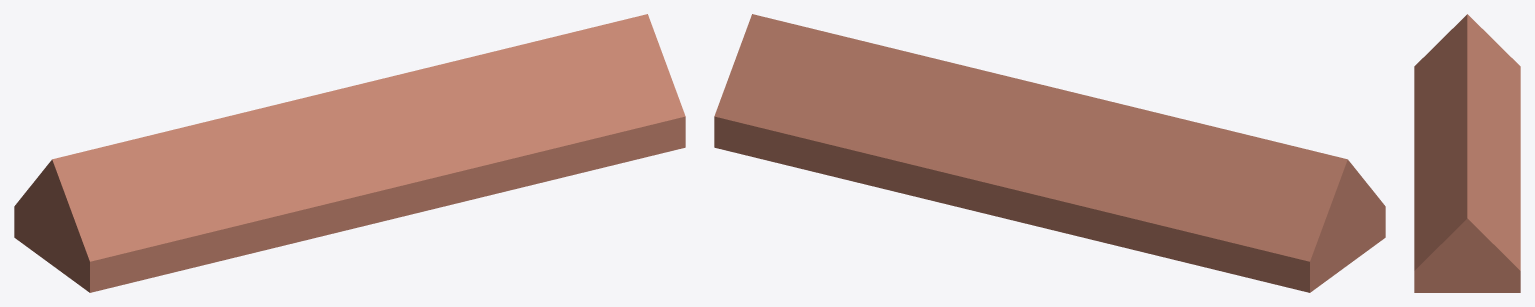
File: ridge_cap.glb
3 views of the same model, side by side, from view 1: azimuth 30°, elevation 25°; view 2: azimuth 150°, elevation 25°; view 3: azimuth 270°, elevation 25° (orthographic). The views are drawn at different scales.
Parts seen in each view (by area): view 1: ridge_cap_ridge; view 2: ridge_cap_ridge; view 3: ridge_cap_ridge.
Boxes of the visible parts, x1,y1,x2,y2 form: ridge_cap_ridge: [14, 14, 685, 292]; ridge_cap_ridge: [714, 14, 1385, 292]; ridge_cap_ridge: [1414, 14, 1520, 292].
Bounding box in the file's own units: 2 × 0.34 × 0.44.
